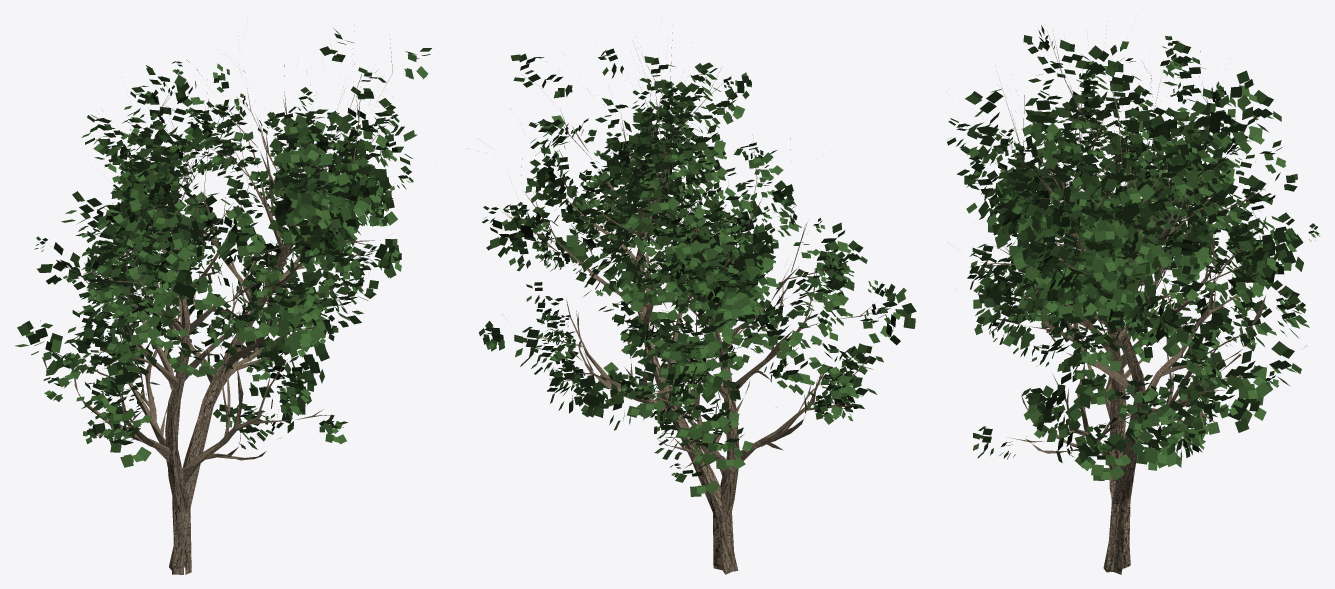
File: Tree.fbx
3 views of the same model, side by side, from view 1: azimuth 30°, elevation 25°; view 2: azimuth 150°, elevation 25°; view 3: azimuth 270°, elevation 25° (orthographic). The views are drawn at different scales.
Parts seen in each view (by area): view 1: Tree_LOD_2; view 2: Tree_LOD_2; view 3: Tree_LOD_2.
Part boxes in pixels (box(x1,y1,x2,y2)): Tree_LOD_2: box(15, 25, 431, 574); Tree_LOD_2: box(479, 25, 916, 574); Tree_LOD_2: box(946, 21, 1320, 574).
Size of the model in its own units: 847 by 1019 by 597.
2 materials, 1 textured.
